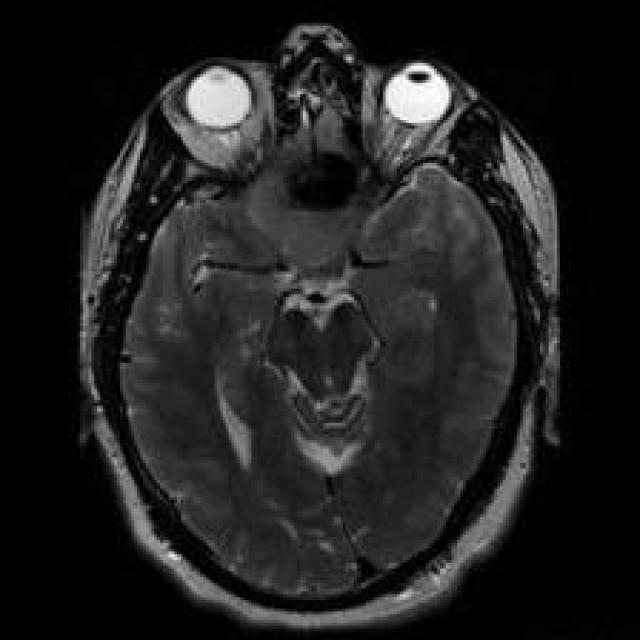no_tumor: (66, 13, 580, 640)
